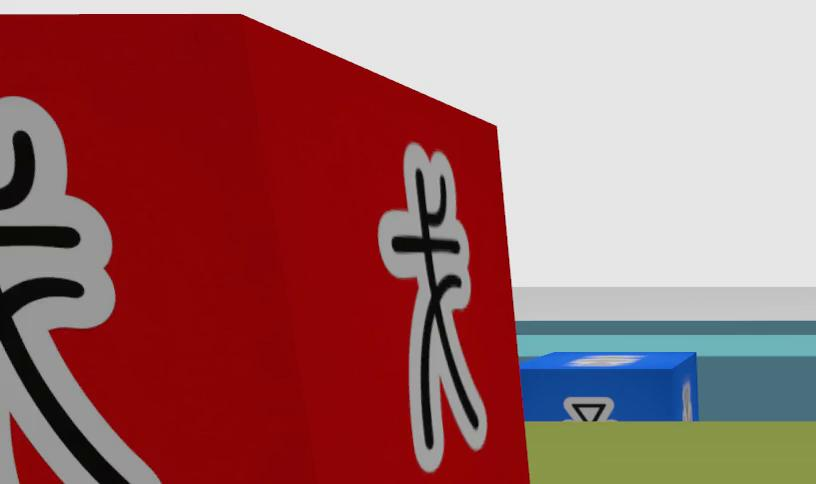KFS_FAKE: (0, 14, 528, 484), (0, 96, 161, 484), (378, 143, 489, 472)
KFS_REAL: (520, 352, 700, 421)
